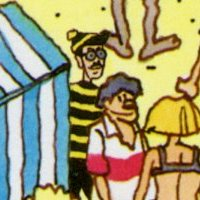odlaw: (77, 30, 105, 77)
